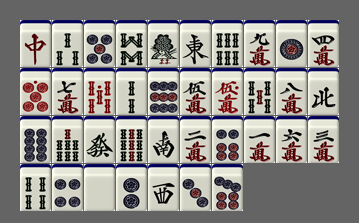0m: (212, 68, 243, 115)
0p: (20, 68, 51, 115)
0s: (84, 68, 115, 115)
1m: (244, 116, 275, 163)
1p: (276, 20, 307, 67)
1s: (148, 20, 179, 67)
1z: (180, 20, 211, 67)
2m: (180, 116, 211, 163)
2p: (116, 164, 147, 211)
2s: (116, 68, 147, 115)
2z: (148, 116, 179, 163)
3m: (308, 116, 339, 163)
3p: (180, 164, 211, 211)
3s: (52, 20, 83, 67)
3z: (148, 164, 179, 211)
4m: (308, 20, 339, 67)
4p: (52, 164, 83, 211)
4s: (20, 164, 51, 211)
4z: (308, 68, 339, 115)
5m: (180, 68, 211, 115)
5p: (84, 20, 115, 67)
5s: (244, 68, 275, 115)
5z: (84, 164, 115, 211)
6m: (276, 116, 307, 163)
6p: (212, 116, 243, 163)
6s: (212, 20, 243, 67)
6z: (84, 116, 115, 163)
7m: (52, 68, 83, 115)
7p: (212, 164, 243, 211)
7s: (52, 116, 83, 163)
7z: (20, 20, 51, 67)
8m: (276, 68, 307, 115)
8p: (20, 116, 51, 163)
8s: (116, 20, 147, 67)
9m: (244, 20, 275, 67)
9p: (148, 68, 179, 115)
9s: (116, 116, 147, 163)
